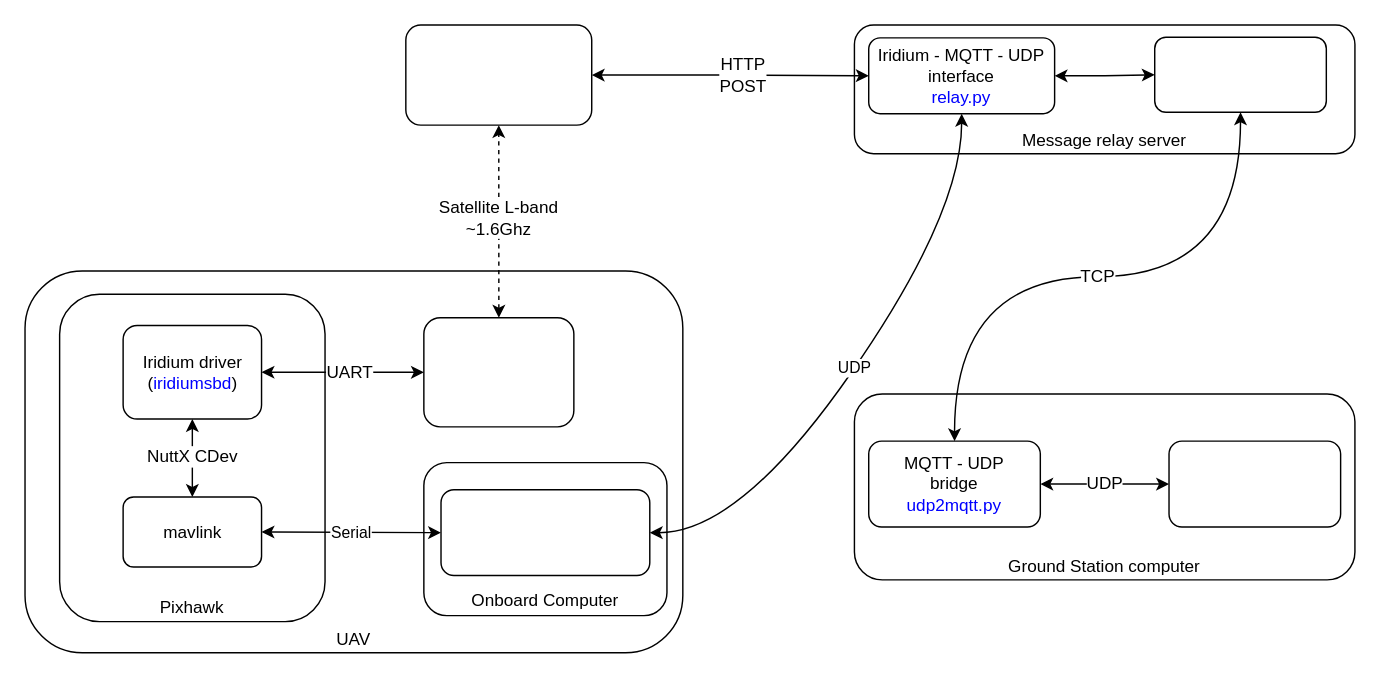
Some shapes in this 1380 by 678 pixel diagram are drawn without their labels. The centre of each missing label's shape, as x and y in pixels:
"Iridium System" belongs at pixel 498 74.
"MQTT message broker" belongs at pixel 1239 74.
"Proxy (Mavros or pymavlink)" belongs at pixel 545 532.
"QGroundControl" belongs at pixel 1254 483.
"RockBLOCK Iridium 9602/9603 satellite modem" belongs at pixel 498 371.
